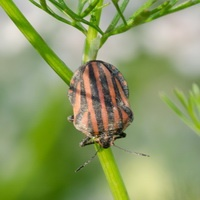insect: (68, 60, 132, 147)
